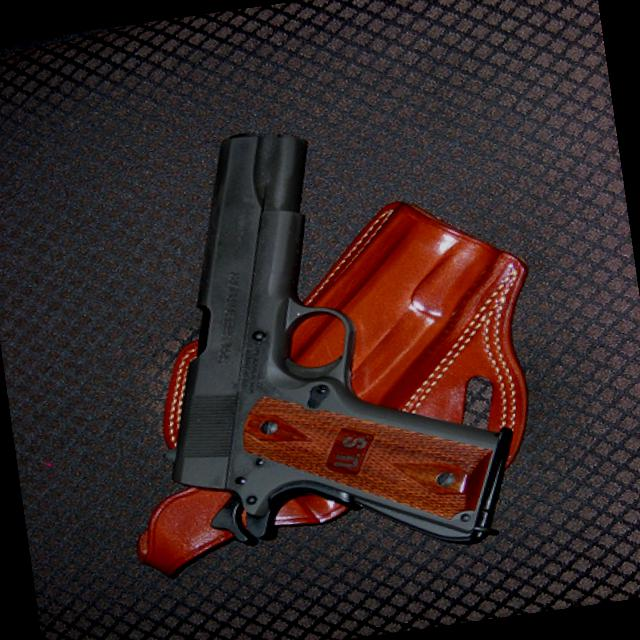handgun: (118, 100, 520, 592)
